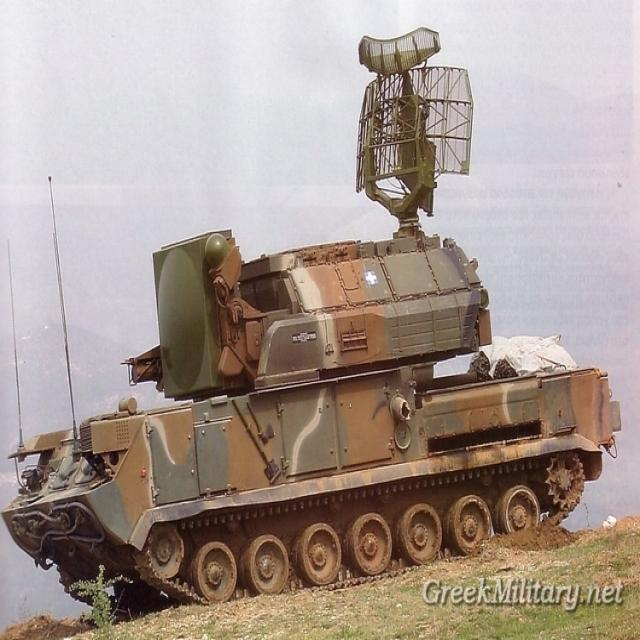MIL_EW_RDR: (9, 31, 603, 590)
